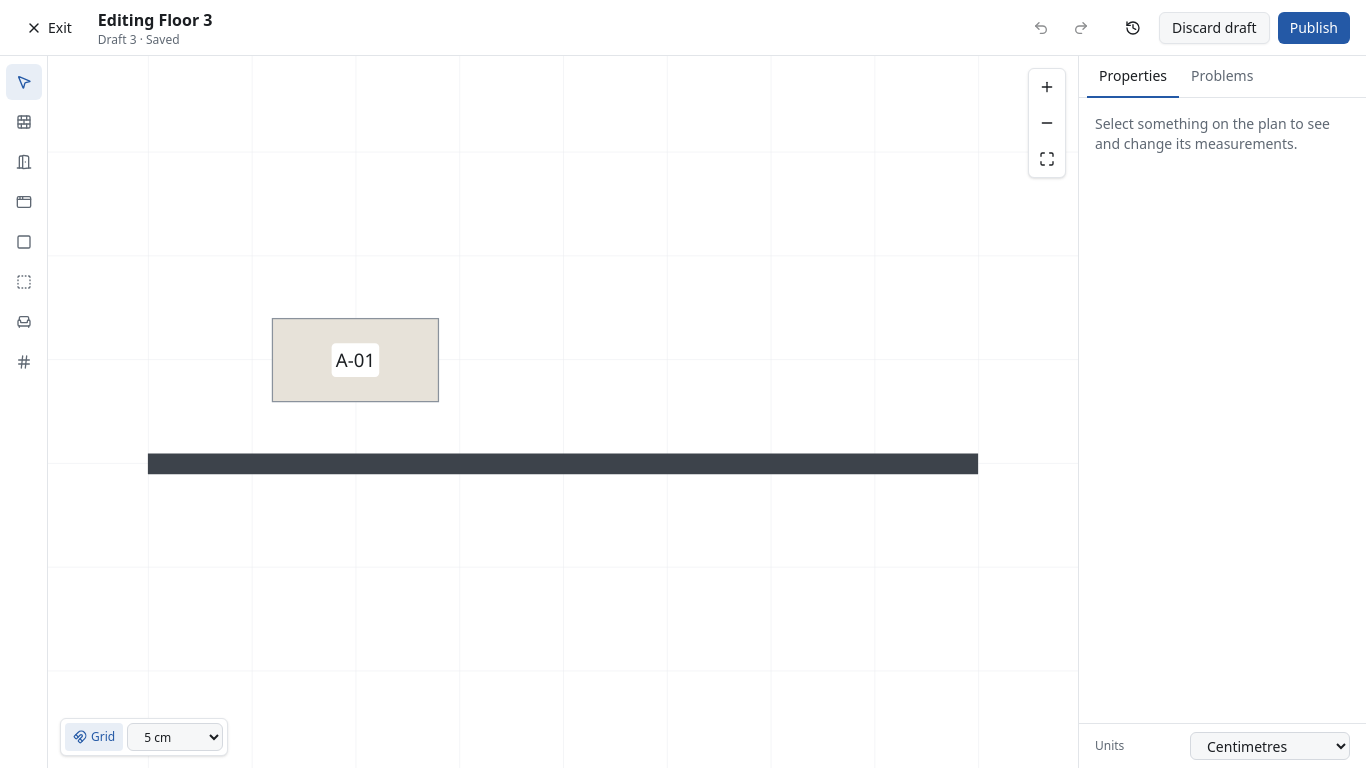
Scenario: publishing, discarding and history (docs/0082, docs/0089) › publish conflicts are listed in Problems
Expected: the text "Draft 3 · Saved" is shown, [98,30,180,48]
What coordinates should you click on to do the following:
click the button "Publish"
I would click on:
 (1314, 28)
Its box is [1278,12,1350,44].
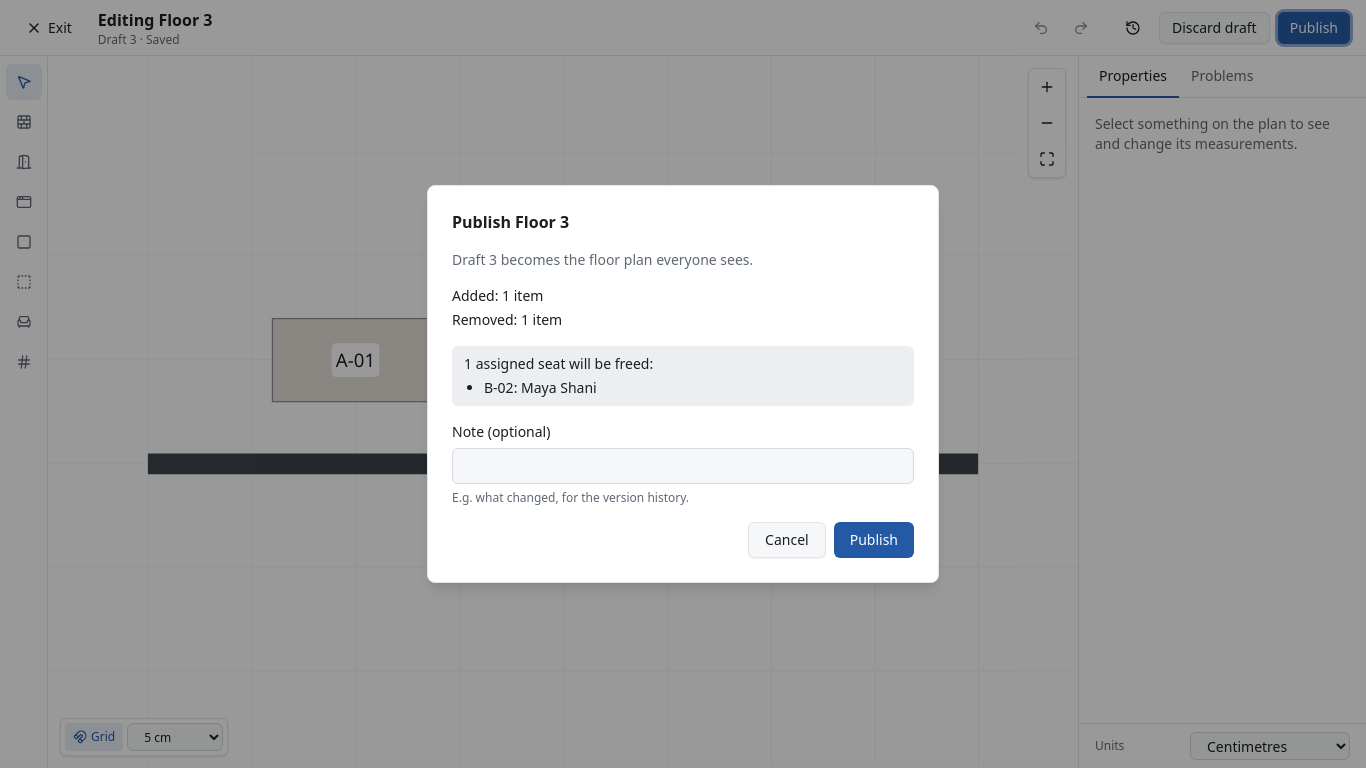
What coordinates should you click on to do the following:
click the button "Publish"
I would click on:
 (874, 540)
Its box is [834,522,914,558].
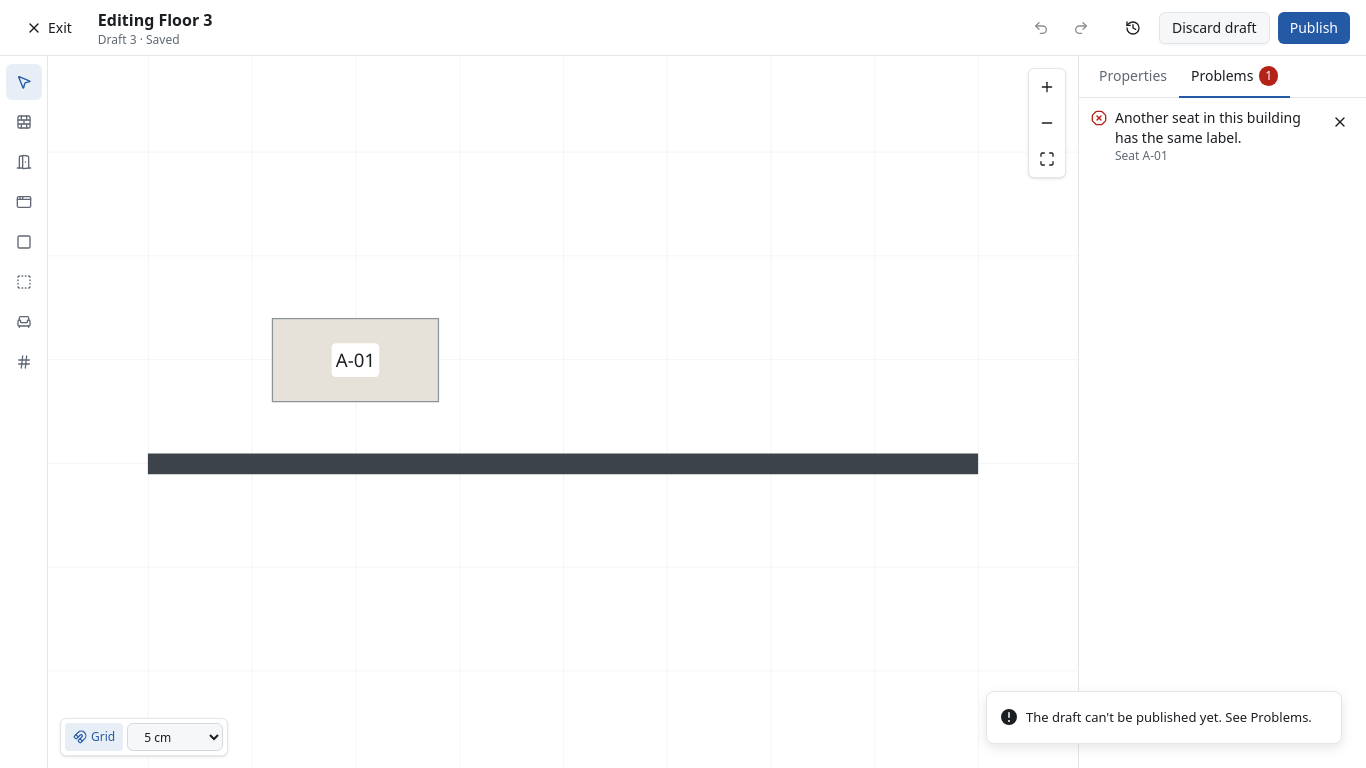
Expected: the text "Another seat in this building has the same label." is shown, [1115,108,1318,148]
Expected: the text "Seat A-01" is shown, [1115,147,1168,164]
